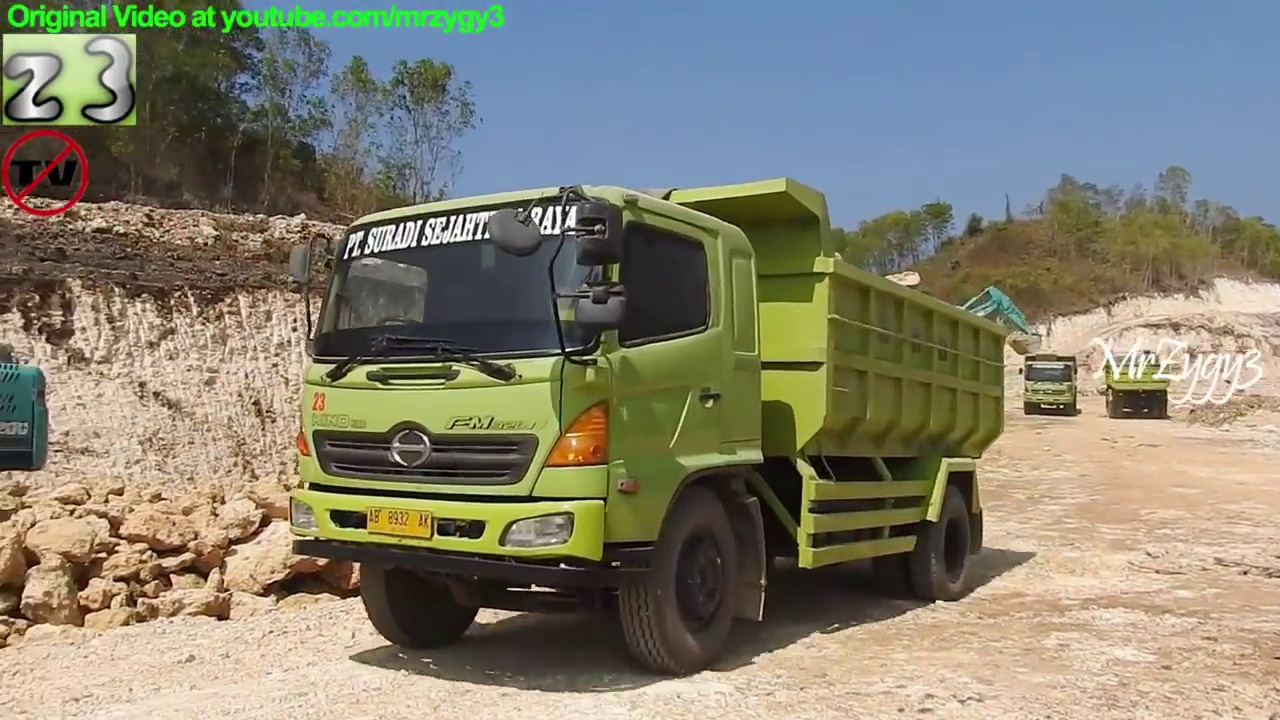excavator: (900, 278, 1041, 431)
truck: (285, 172, 1010, 676), (1103, 351, 1174, 424), (1019, 347, 1082, 424)
